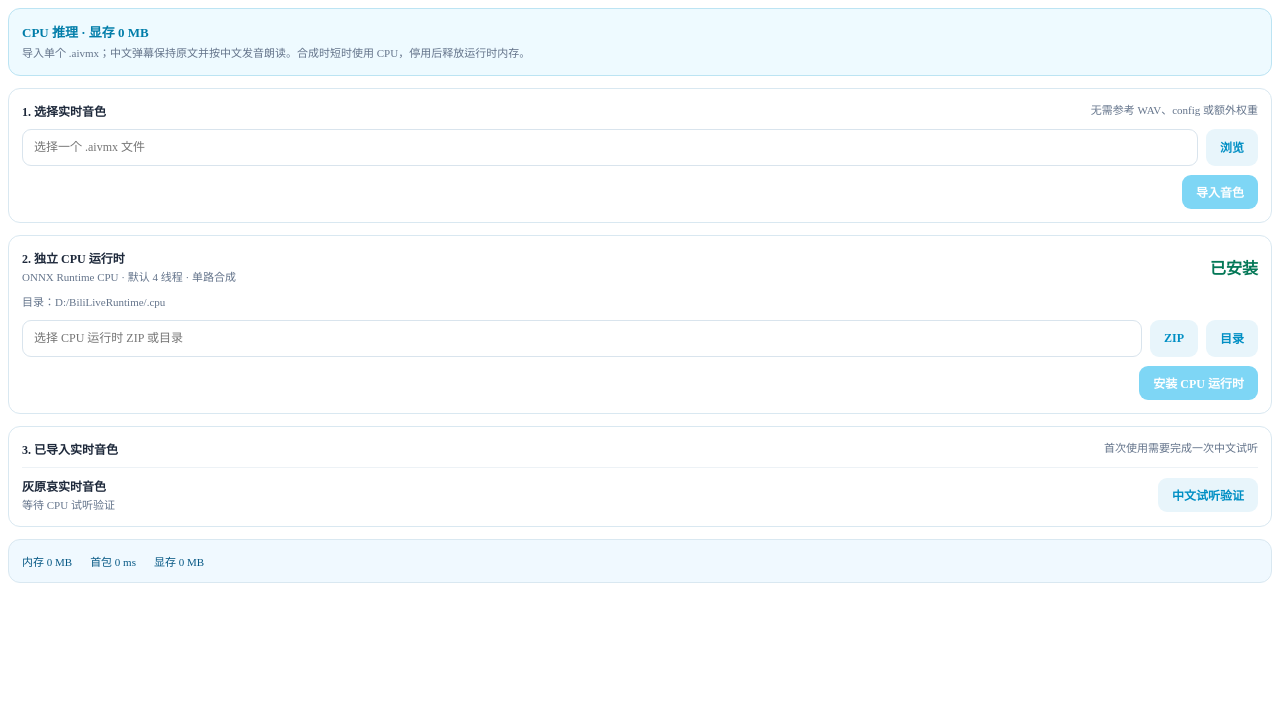
Scenario: AivmxImportPanel › installs the separate cpu runtime and previews an installed voice in Chinese
Click the button with test id "pick-cpu-runtime-zip" at (1174, 338), box [1150,320,1198,356]
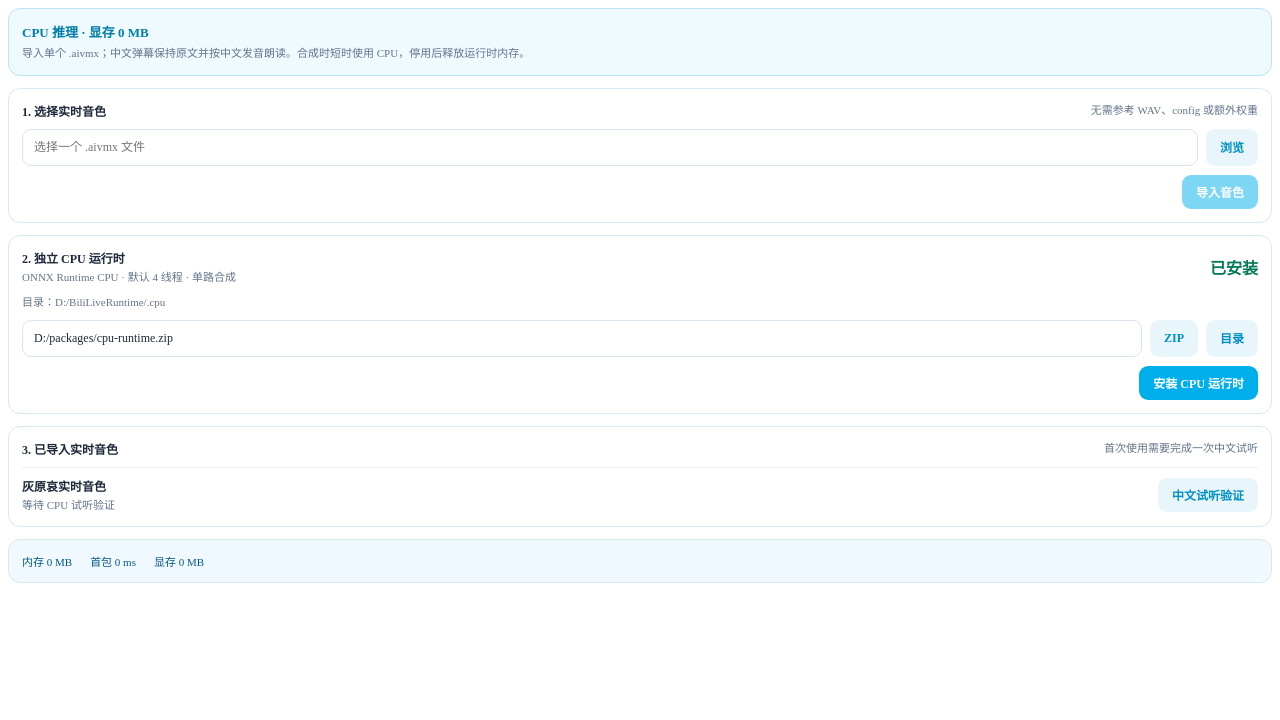
Click the button with test id "install-cpu-runtime" at (1199, 382), box [1139,366,1258,400]
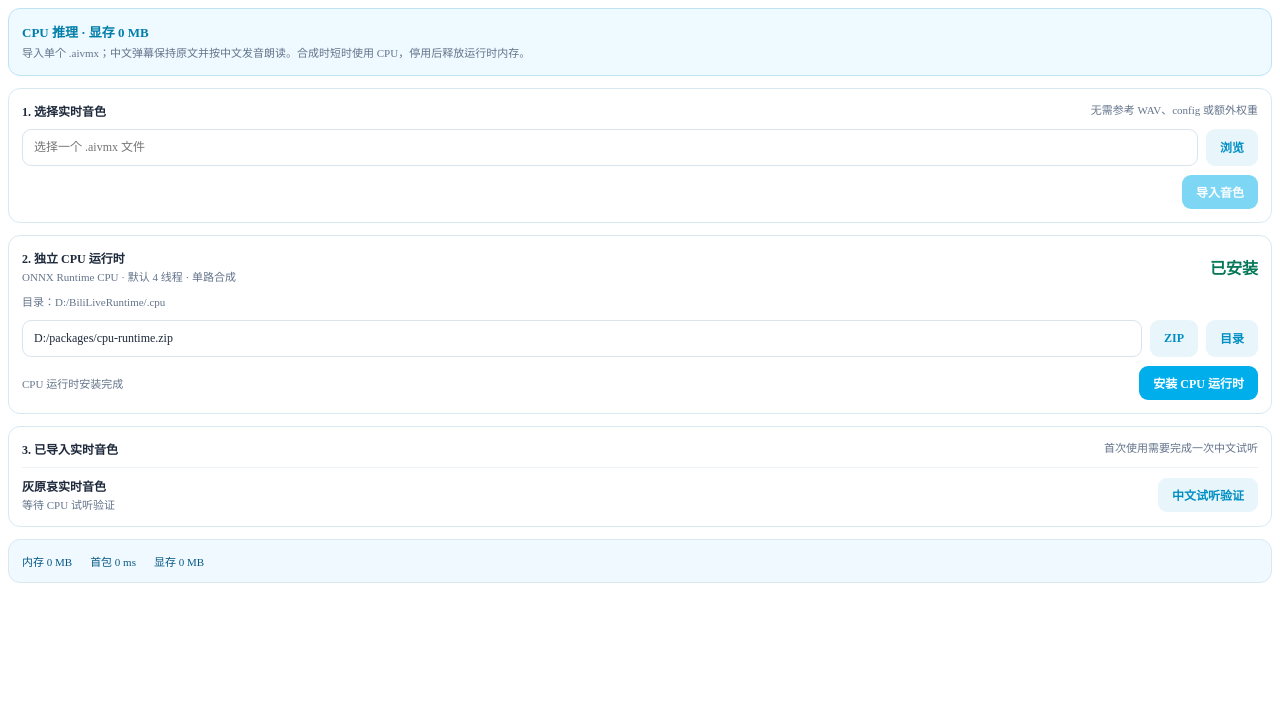
Expected: the text "CPU 运行时安装完成" is shown, [22,378,123,390]
Click the button with test id "preview-aivmx-0" at (1208, 495), box [1158,478,1258,512]
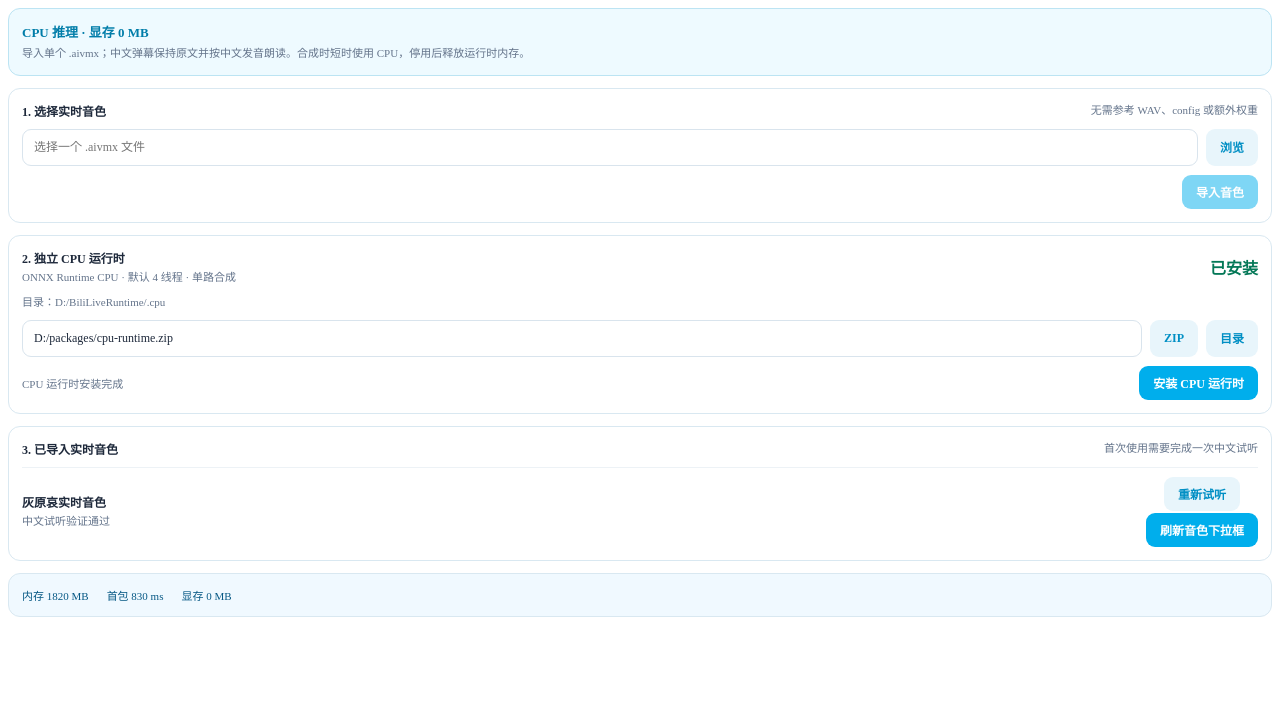
Expected: the text "显存 0 MB" is shown, [22,25,149,40]
Expected: the text "内存 1820 MB" is shown, [22,586,89,602]
Expected: the text "首包 830 ms" is shown, [107,586,163,602]
